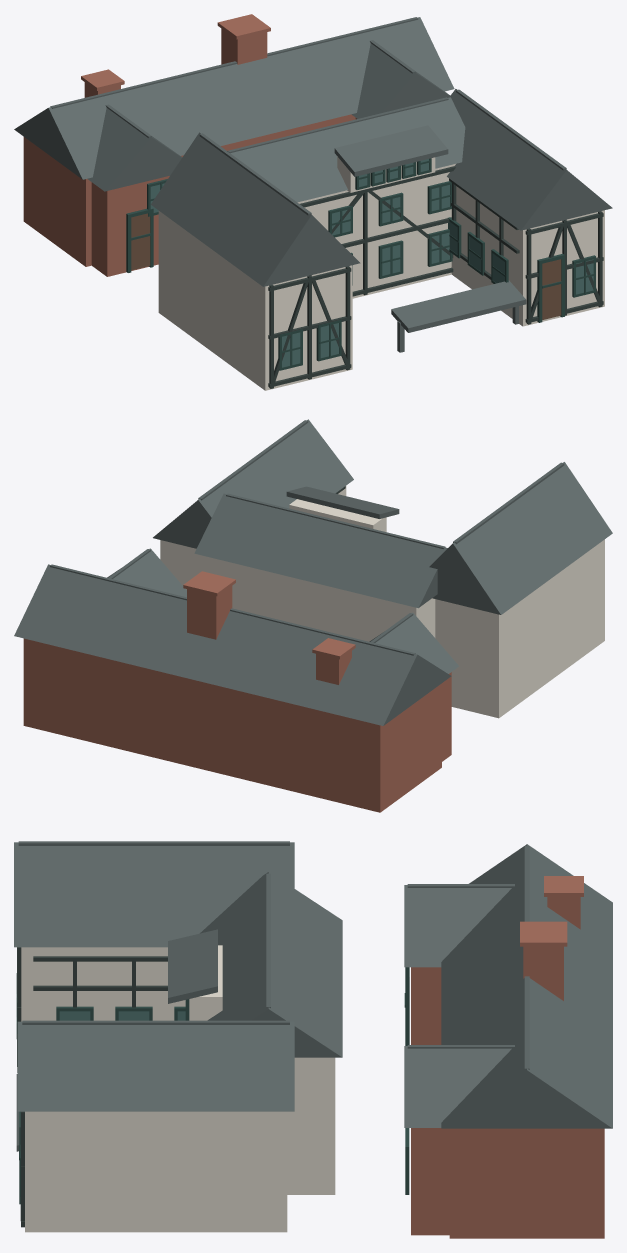
Rendered from one-step-garden-hero.glb.
3 views of the same model, one above another, from view 1: azimuth 30°, elevation 25°; view 2: azimuth 150°, elevation 25°; view 3: azimuth 270°, elevation 25° (orthographic). The views are drawn at different scales.
Parts seen in each view (by area): view 1: one-step-garden-hero; view 2: one-step-garden-hero; view 3: one-step-garden-hero.
Boxes of the visible parts, bbox=[...] form: one-step-garden-hero: bbox=[14, 14, 612, 390]; one-step-garden-hero: bbox=[14, 419, 612, 812]; one-step-garden-hero: bbox=[14, 841, 612, 1238].
Bounding box in the file's own units: 14.5 × 6.25 × 16.22.
